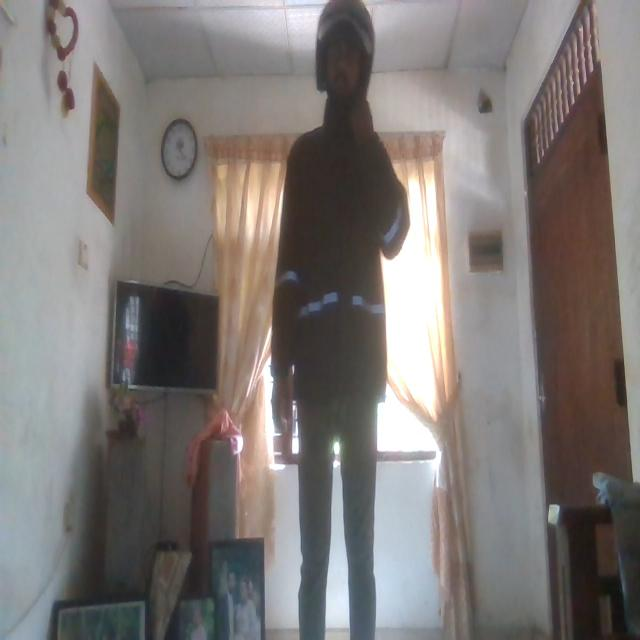Helmet_Wearer: (309, 0, 374, 132)
Jacket_Wearer: (270, 123, 414, 439)
Person: (270, 5, 406, 640)
